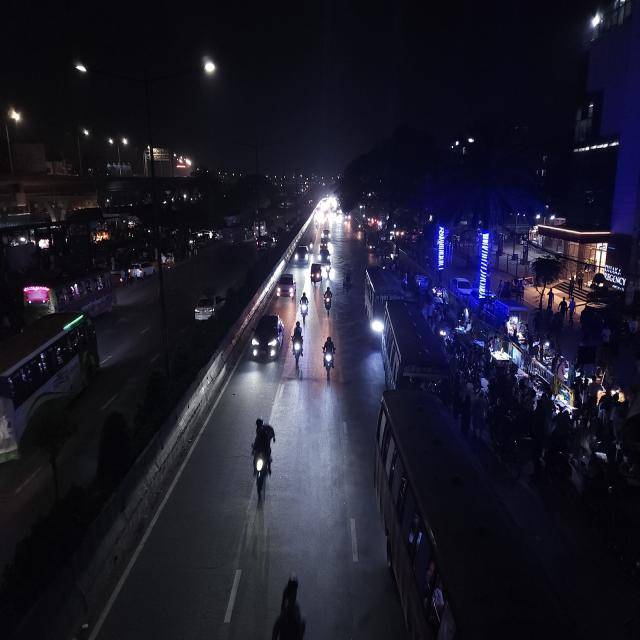bus: (373, 392, 619, 640), (0, 308, 102, 468), (380, 299, 458, 414), (18, 267, 117, 323)
car: (249, 310, 285, 367), (192, 291, 225, 328), (276, 270, 296, 299), (292, 241, 312, 268), (414, 271, 430, 297), (129, 262, 147, 280), (318, 244, 332, 265), (319, 227, 331, 246)
cng: (309, 260, 323, 286)
motorcycle: (261, 568, 315, 640), (247, 415, 279, 499), (321, 333, 337, 379), (290, 317, 304, 369), (299, 290, 310, 322), (324, 284, 334, 315)
rickshaw: (342, 274, 353, 296)
